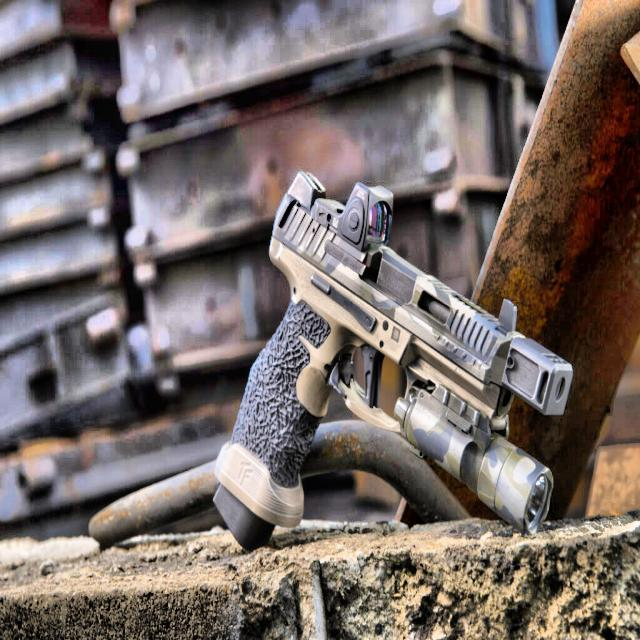HKVP9: (211, 167, 573, 550)
